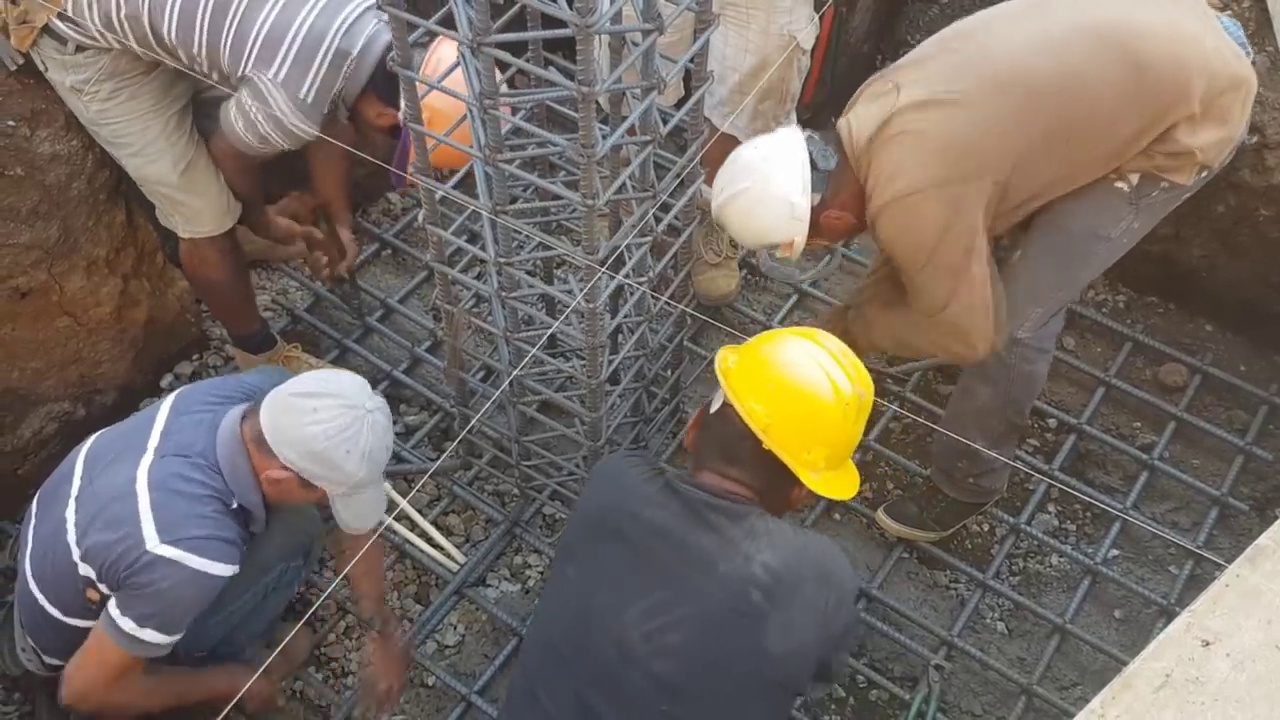helmet: (723, 332, 876, 503), (409, 28, 514, 175), (716, 116, 822, 251)
helmet-off: (226, 364, 389, 537)
helmet-on: (660, 329, 874, 517), (338, 21, 513, 182), (708, 107, 878, 266)
person: (708, 3, 1252, 543), (8, 0, 516, 342), (0, 351, 404, 719), (501, 336, 875, 718), (584, 2, 823, 306)
